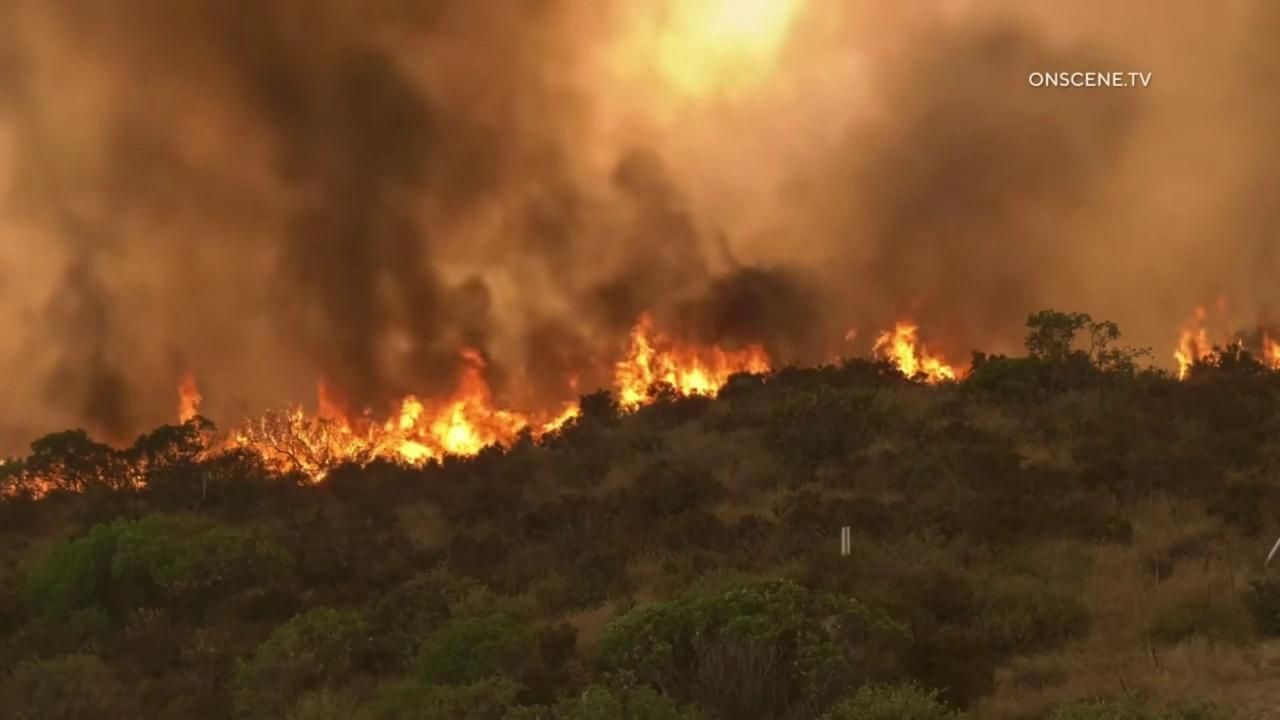fire: (177, 345, 585, 488), (612, 308, 774, 420), (872, 320, 977, 388), (0, 459, 150, 501), (1172, 303, 1223, 383), (1262, 330, 1280, 370), (820, 352, 847, 370), (1235, 336, 1249, 362), (843, 328, 859, 342)
smoke: (0, 0, 1280, 471)
